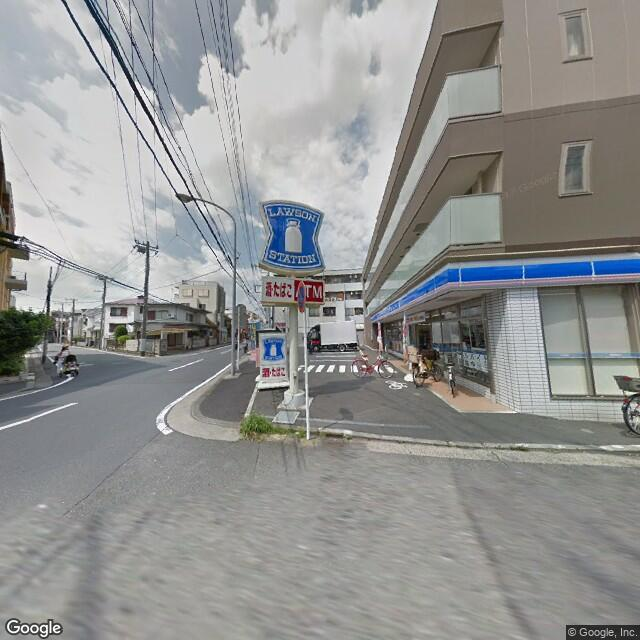lawson: (369, 245, 639, 323), (259, 195, 325, 276), (256, 329, 289, 371)
